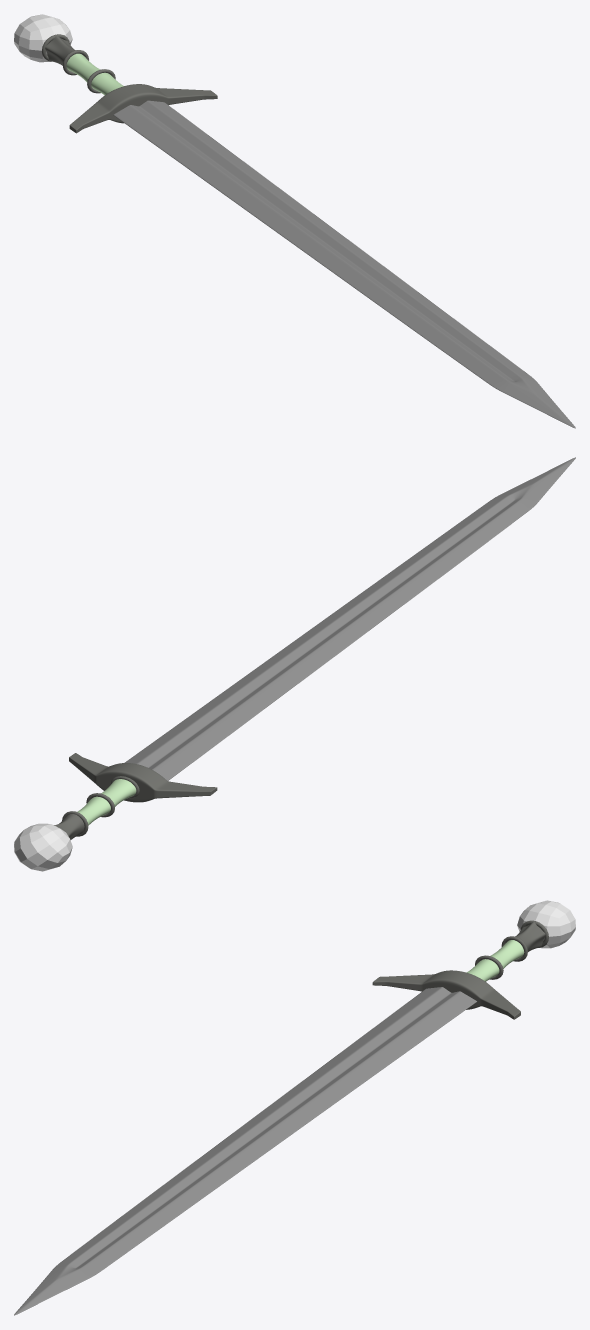
File: CWsword7.fbx
The picture shows the model from 3 angles, top to bottom: view 1: azimuth 30°, elevation 25°; view 2: azimuth 150°, elevation 25°; view 3: azimuth 330°, elevation 25°; orthographic projection.
Visible parts, largest first — view 1: Cube, Cylinder.003, Cube.001, Cylinder; view 2: Cube, Cylinder.003, Cube.001, Cylinder; view 3: Cube, Cylinder.003, Cube.001, Cylinder, Cylinder.001.
Part boxes in pixels (x1,y1,x2,y2): Cube: (113,100,575,428); Cylinder.003: (69,84,217,133); Cube.001: (14,14,72,62); Cylinder: (66,53,123,95); Cube: (124,457,575,780); Cylinder.003: (69,753,217,802); Cube.001: (14,823,72,871); Cylinder: (77,779,136,825); Cube: (14,987,476,1315); Cylinder.003: (372,970,520,1019); Cube.001: (517,900,575,948); Cylinder: (466,940,524,981); Cylinder.001: (515,921,545,951).
Bounding box in the file's own units: 125 × 34.58 × 835.
